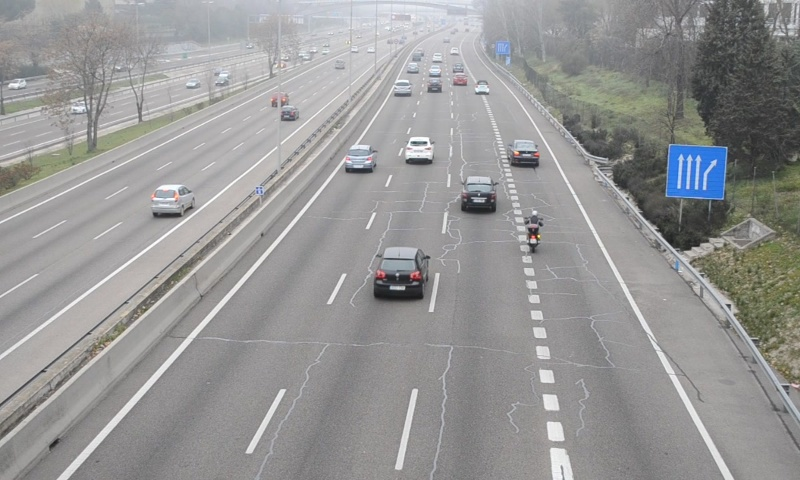car: (375, 246, 427, 298), (460, 176, 496, 211), (344, 144, 375, 172), (510, 139, 540, 167), (404, 136, 436, 162), (393, 80, 413, 98), (426, 77, 443, 94), (476, 78, 490, 95)
motorcycle: (523, 209, 545, 254)
